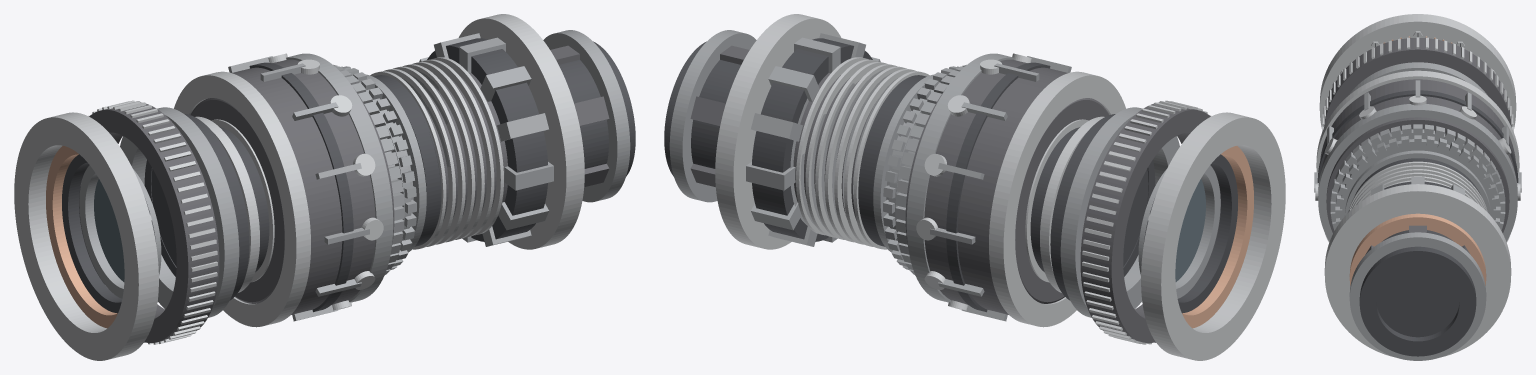
The model's file is outframe-m01.glb.
3 renders of one model, left to right at view 1: azimuth 30°, elevation 25°; view 2: azimuth 150°, elevation 25°; view 3: azimuth 270°, elevation 25°, orthographic. The views are drawn at different scales.
Parts seen in each view (by area): view 1: front_bezel_outer, central_housing_shell, central_housing_front_rim, rear_flange_outer, front_knurled_ring, rear_grip_base, front_collar_A, rear_mount_lip, central_housing_rear_rim, front_bezel_inner_lip, front_aperture_retainer, central_housing_mid_band (+26 smaller); view 2: front_bezel_outer, central_housing_shell, central_housing_front_rim, rear_flange_outer, front_knurled_ring, front_collar_A, rear_grip_base, rear_mount_lip, central_housing_rear_rim, front_bezel_inner_lip, front_aperture_retainer, central_housing_mid_band (+26 smaller); view 3: rear_flange_outer, rear_terminal_ring, central_housing_shell, front_bezel_outer, rear_mount_core, central_housing_rear_rim, front_knurled_ring, rear_mount_lip, rear_flange_inner, central_housing_front_rim, gear_core_ring_2, gear_core_ring_3 (+9 smaller).
Boxes of the visible parts, bbox=[...] form: front_bezel_outer: bbox=[14, 112, 158, 360]; central_housing_shell: bbox=[190, 59, 394, 314]; central_housing_front_rim: bbox=[174, 71, 310, 327]; rear_flange_outer: bbox=[458, 14, 584, 249]; front_knurled_ring: bbox=[79, 102, 219, 342]; rear_grip_base: bbox=[427, 38, 547, 241]; front_collar_A: bbox=[120, 107, 239, 317]; rear_mount_lip: bbox=[543, 30, 630, 202]; central_housing_rear_rim: bbox=[286, 53, 393, 302]; front_bezel_inner_lip: bbox=[46, 146, 117, 328]; front_aperture_retainer: bbox=[62, 154, 156, 313]; central_housing_mid_band: bbox=[249, 62, 353, 312]; front_bezel_outer: bbox=[1141, 112, 1285, 360]; central_housing_shell: bbox=[905, 59, 1109, 314]; central_housing_front_rim: bbox=[989, 71, 1125, 327]; rear_flange_outer: bbox=[715, 14, 841, 249]; front_knurled_ring: bbox=[1080, 102, 1220, 342]; front_collar_A: bbox=[1060, 107, 1179, 317]; rear_grip_base: bbox=[752, 38, 872, 241]; rear_mount_lip: bbox=[669, 30, 756, 202]; central_housing_rear_rim: bbox=[906, 53, 1013, 302]; front_bezel_inner_lip: bbox=[1182, 146, 1253, 328]; front_aperture_retainer: bbox=[1143, 154, 1237, 313]; central_housing_mid_band: bbox=[946, 62, 1050, 312]; rear_flange_outer: bbox=[1324, 184, 1511, 356]; rear_terminal_ring: bbox=[1359, 246, 1476, 356]; central_housing_shell: bbox=[1320, 79, 1515, 233]; front_bezel_outer: bbox=[1319, 14, 1516, 128]; rear_mount_core: bbox=[1376, 230, 1459, 337]; central_housing_rear_rim: bbox=[1318, 104, 1517, 241]; front_knurled_ring: bbox=[1324, 38, 1511, 127]; rear_mount_lip: bbox=[1349, 232, 1486, 360]; rear_flange_inner: bbox=[1349, 213, 1486, 285]; central_housing_front_rim: bbox=[1316, 70, 1519, 172]; gear_core_ring_2: bbox=[1340, 139, 1495, 220]; gear_core_ring_3: bbox=[1344, 150, 1491, 215].
Size of the model in its own units: 5.71 by 2.49 by 2.49.
